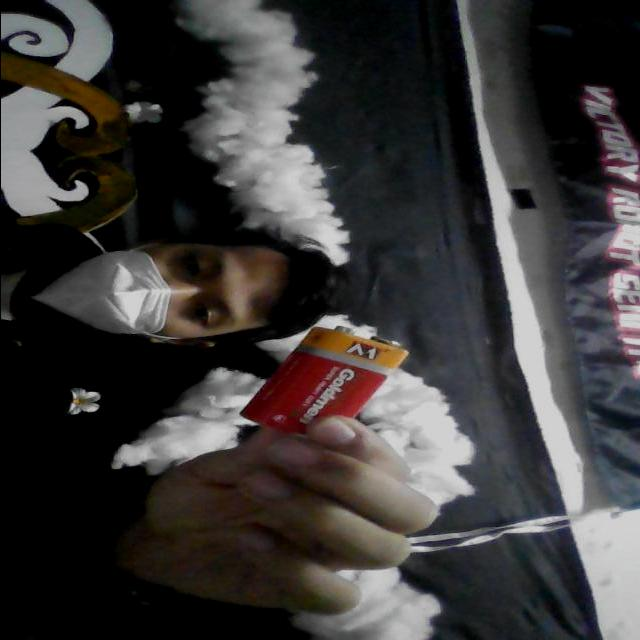9V: (232, 316, 428, 440)
